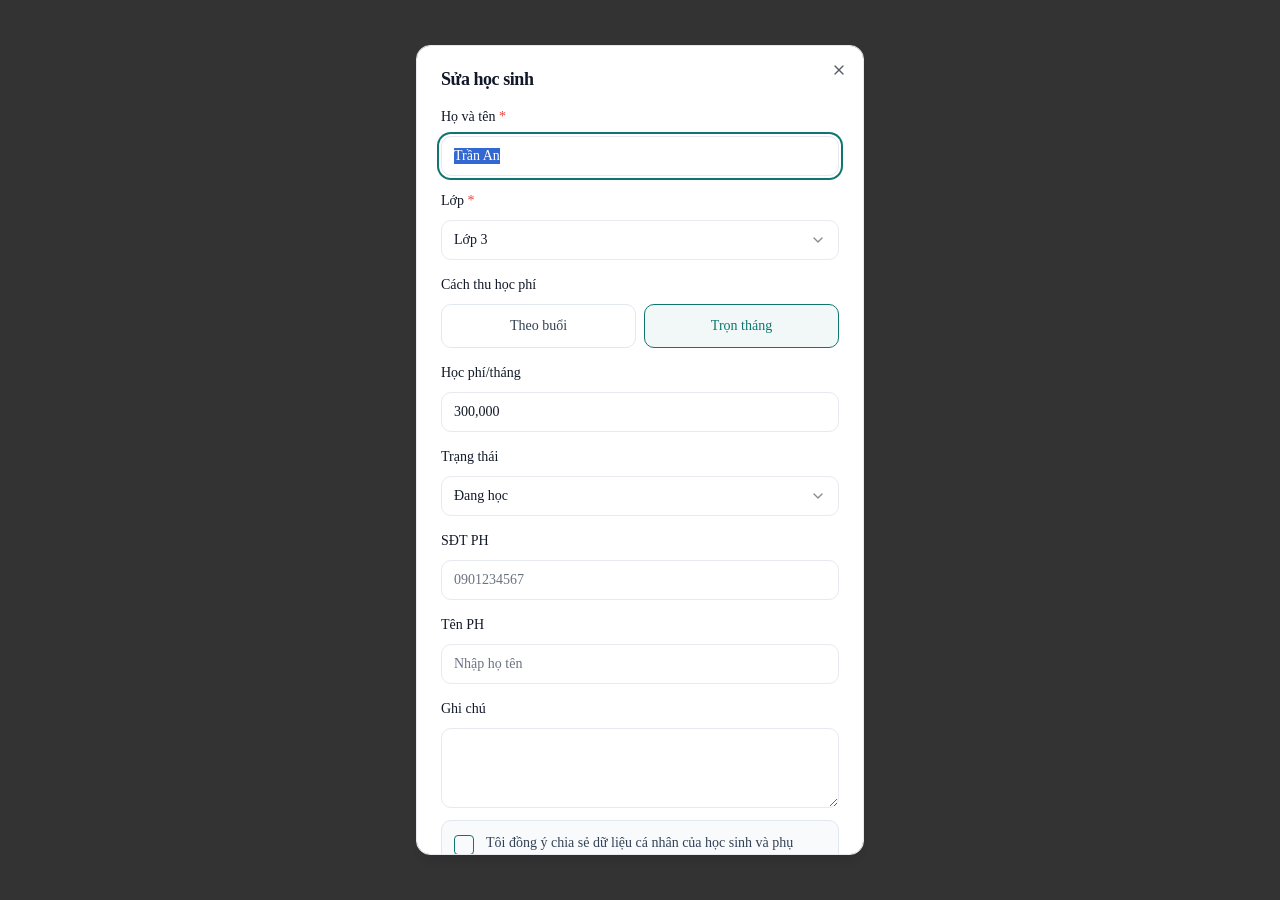
Test: StudentFormDialog: cách thu học phí (Plan T) › form sửa HS đang học: đổi cách thu hiện thông báo áp dụng từ tháng; không đổi không hiện
The image size is (1280, 900).
Check: the text "Áp dụng từ tháng" is not shown
Click the radio button labelled "Theo buổi": x=538, y=326 [441, 304, 636, 348]
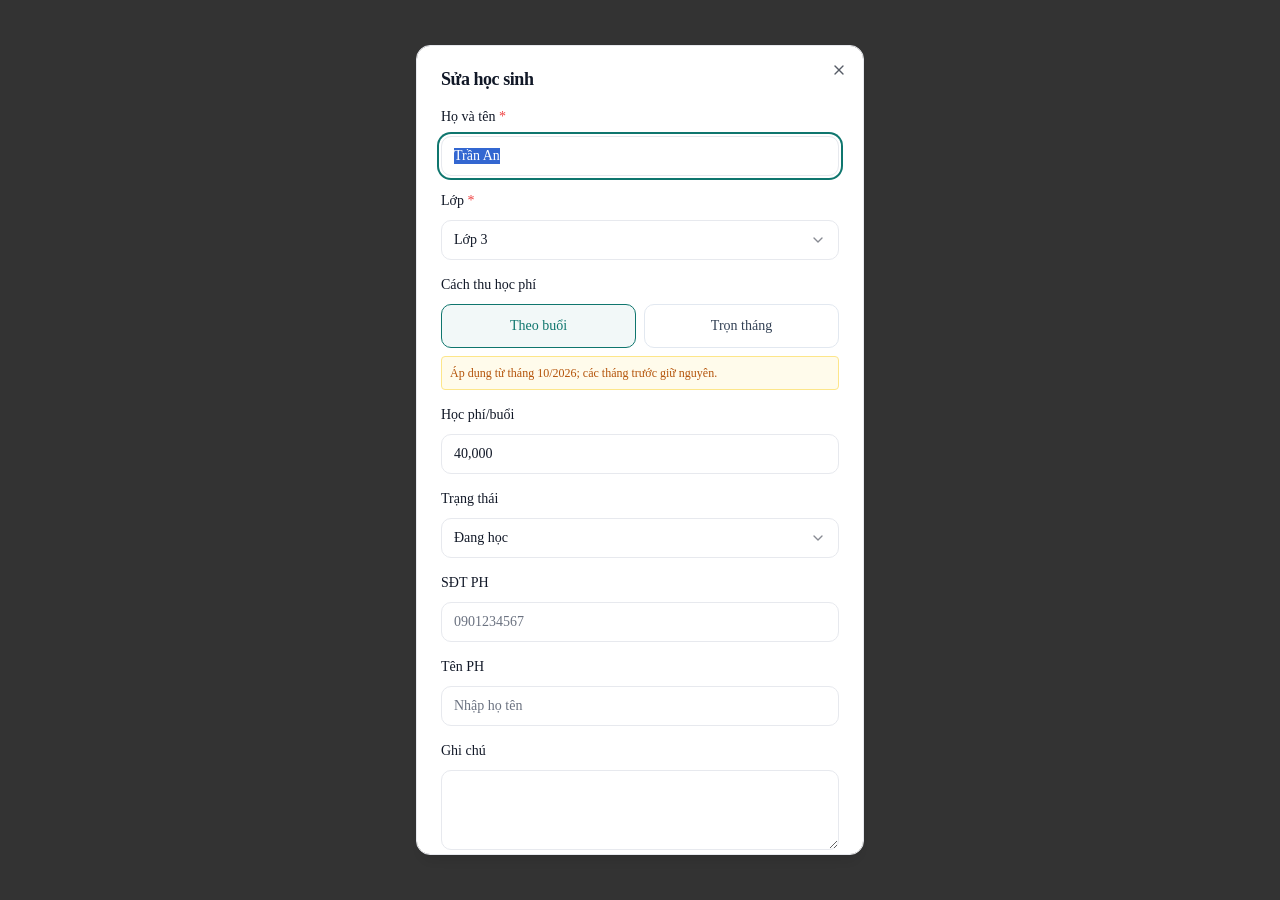
Check: the text "Áp dụng từ tháng 10/2026; các tháng trước giữ nguyên." is shown, box [441, 356, 839, 390]
Click the radio button labelled "Trọn tháng": x=742, y=326 [644, 304, 839, 348]
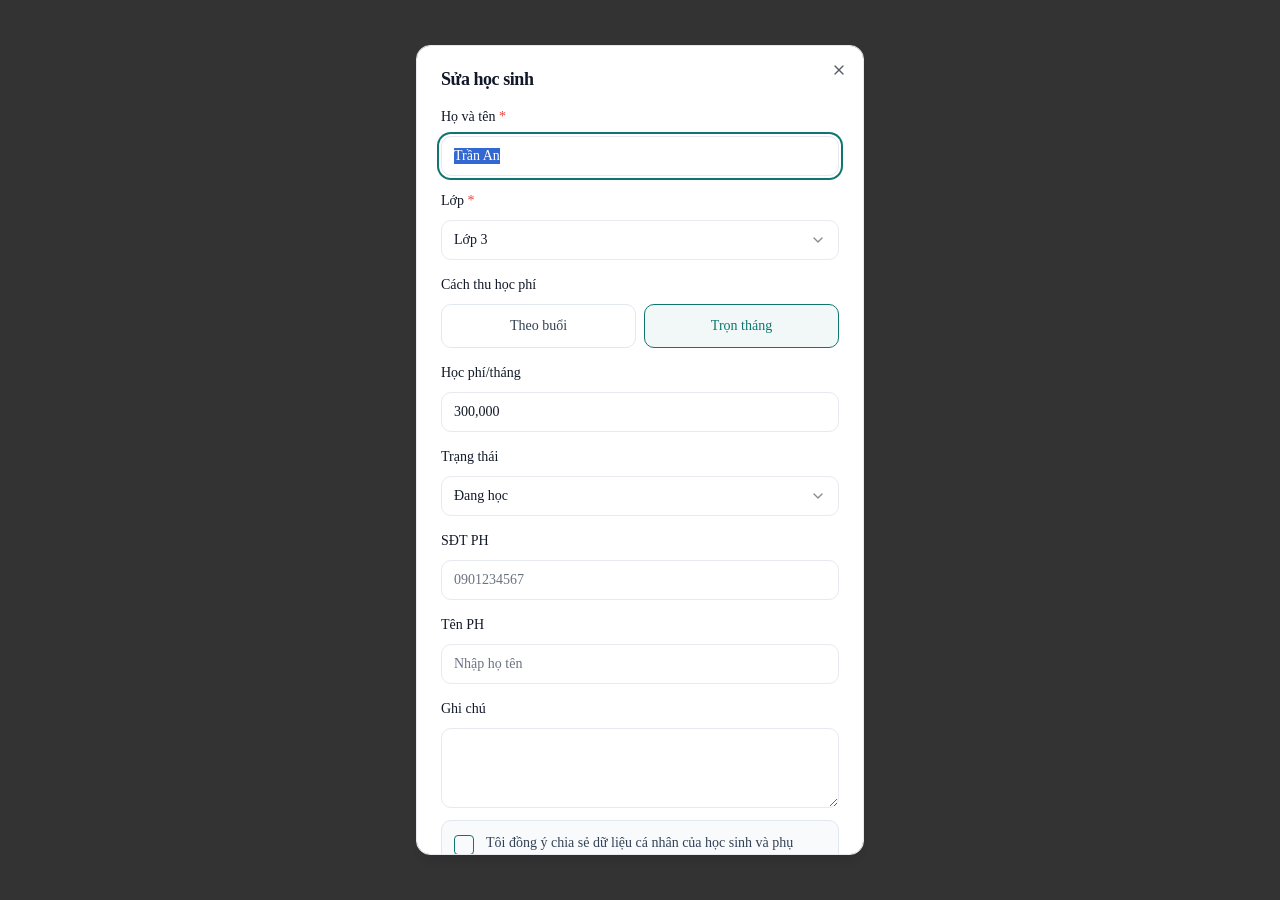
Check: the text "Áp dụng từ tháng" is gone
